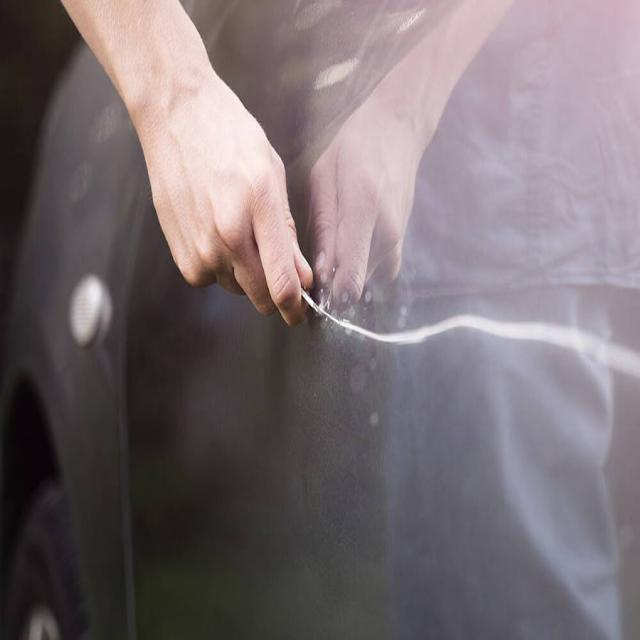scratch: (315, 303, 640, 378)
